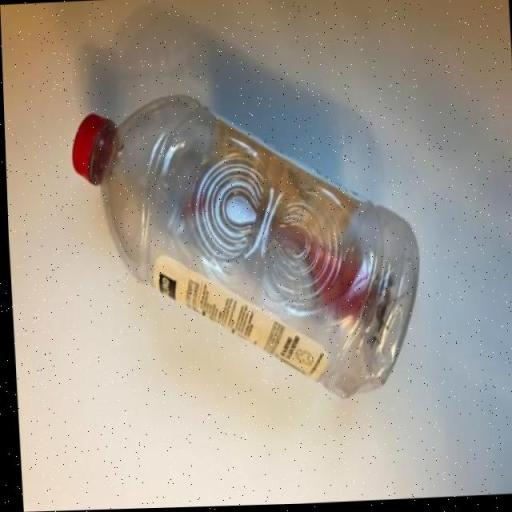plastic: (70, 97, 416, 397)
